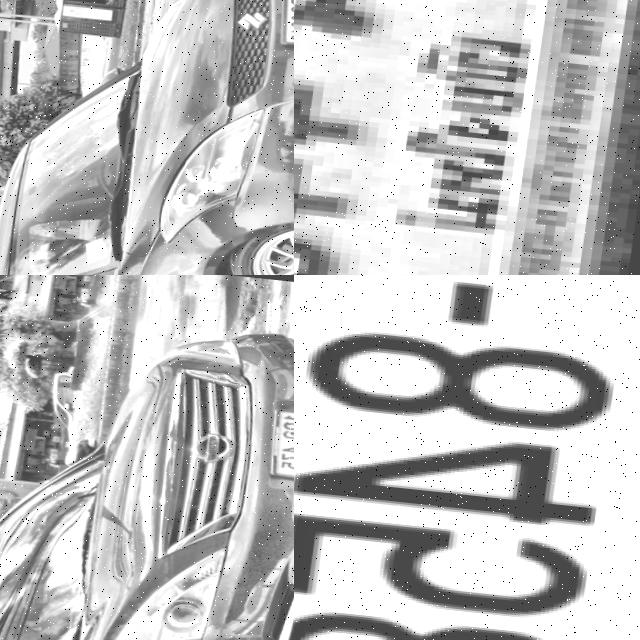license-plate: (294, 275, 640, 640), (294, 0, 640, 275), (251, 401, 294, 489), (274, 0, 294, 50)
